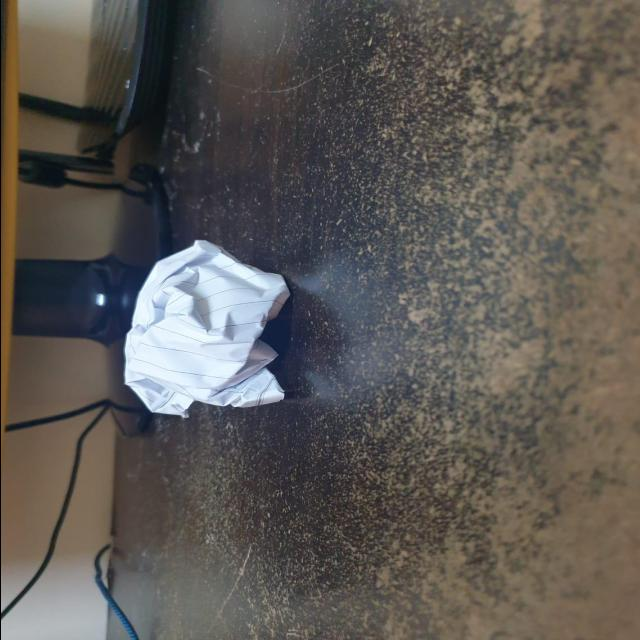kertas: (117, 228, 296, 418)
